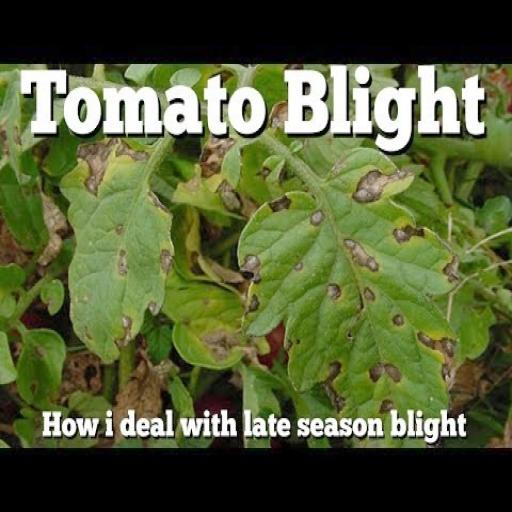Early Blight: (236, 144, 460, 412), (62, 134, 176, 364)
